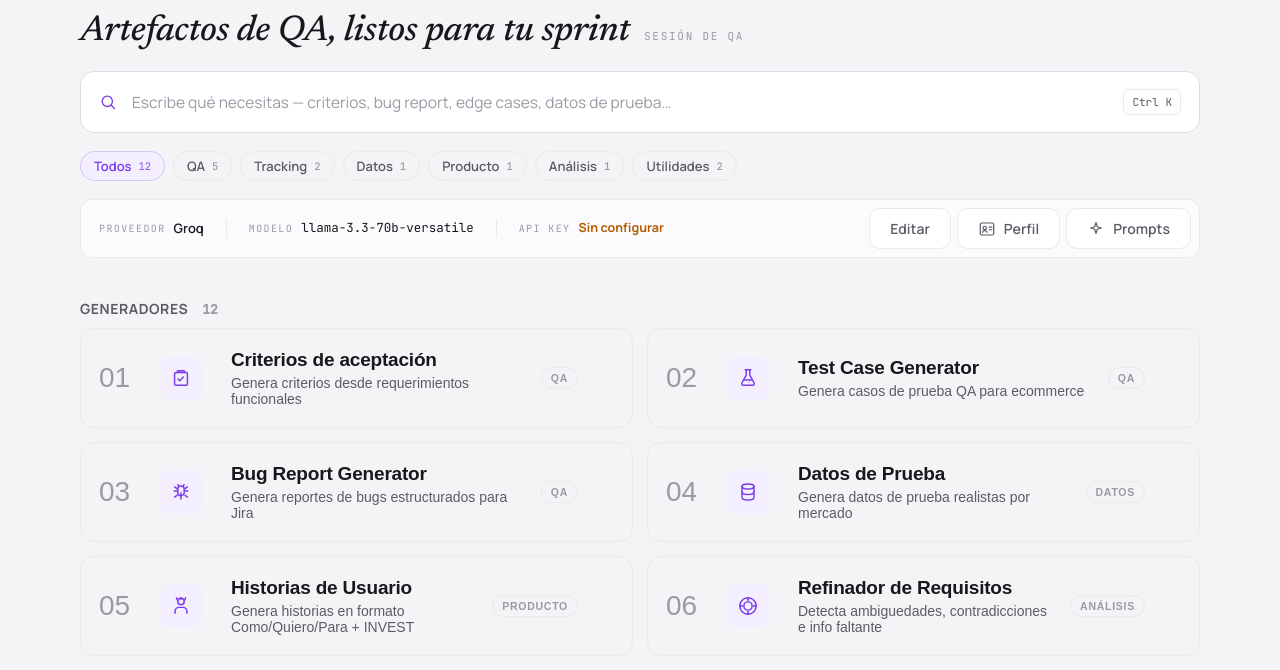
Scenario: LandingScreen — buscador y filtros › ignora los acentos en la busqueda
Step 1. Replace the text in the search field with class "ld-search-input" with "limite" → x=621, y=102, box [132,72,1109,132]
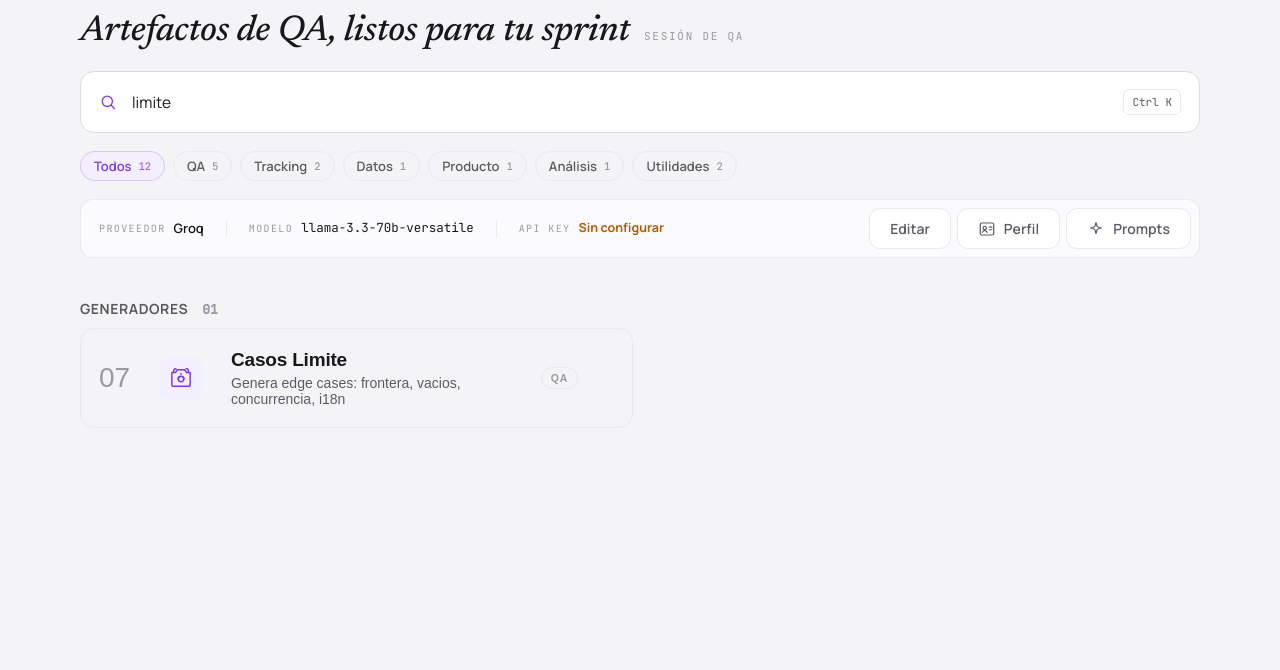
Now the number of buttons with class "tool-row" is 1, box [80,328,633,428]
